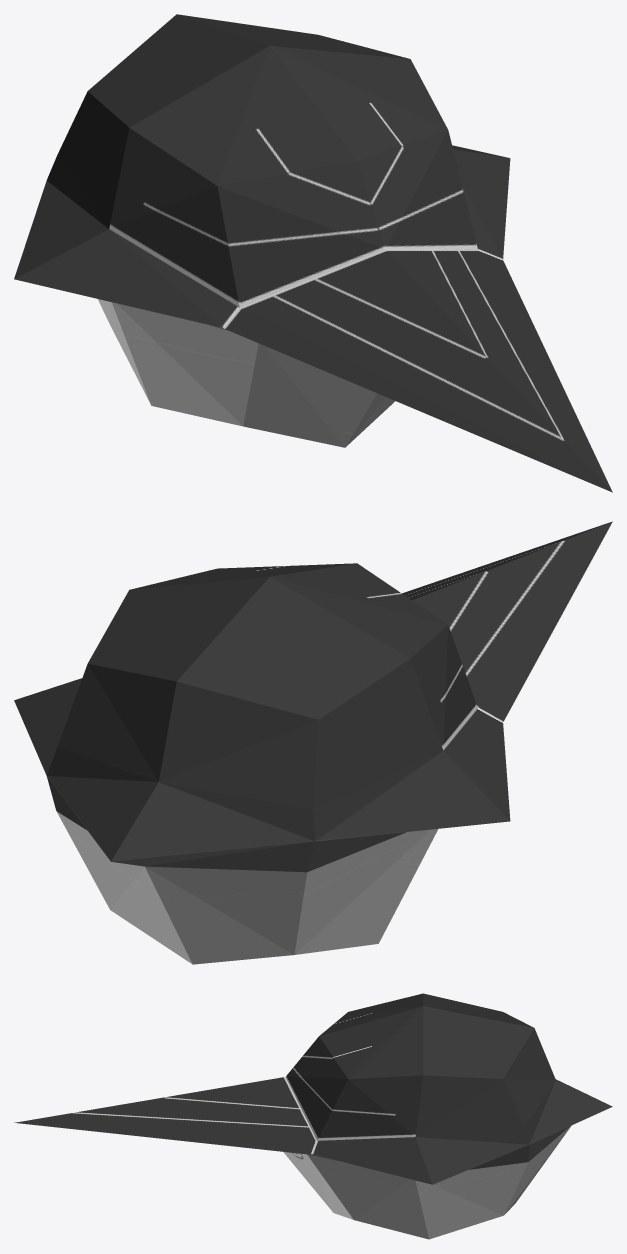
The model's file is player.obj.
The picture shows the model from 3 angles, top to bottom: view 1: azimuth 30°, elevation 25°; view 2: azimuth 150°, elevation 25°; view 3: azimuth 270°, elevation 25°; orthographic projection. The views are drawn at different scales.
Parts seen in each view (by area): view 1: 立方体; view 2: 立方体; view 3: 立方体.
Boxes of the visible parts, box(x1,y1,x2,y2) form: 立方体: box(14, 14, 612, 492); 立方体: box(14, 521, 612, 964); 立方体: box(14, 993, 612, 1239).
Size of the model in its own units: 1.17 by 0.832 by 2.05.
1 material, 1 textured.
